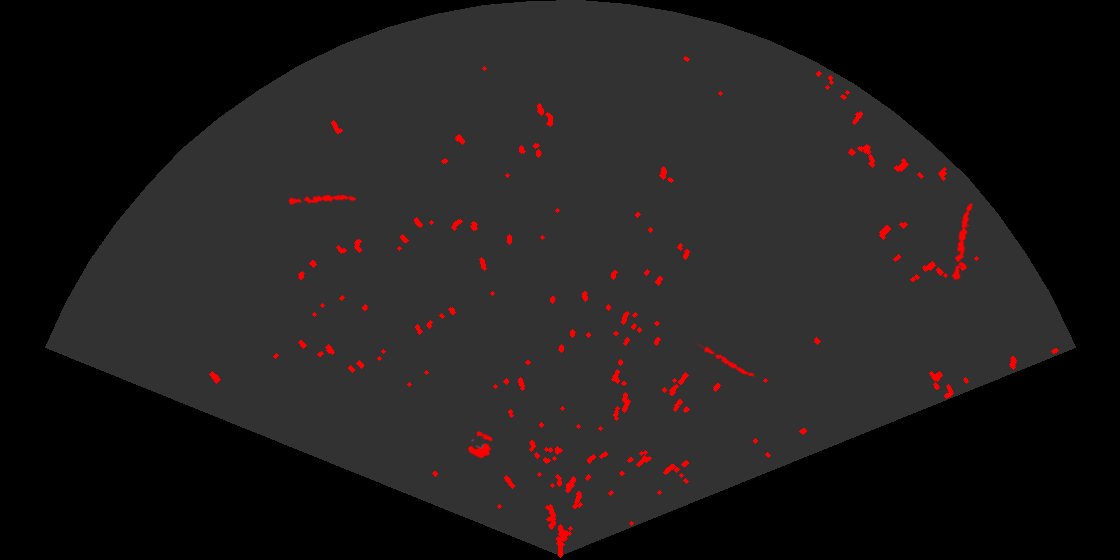ball: (466, 430, 494, 460)
chain: (697, 341, 756, 379), (950, 201, 974, 281), (287, 193, 357, 206)
